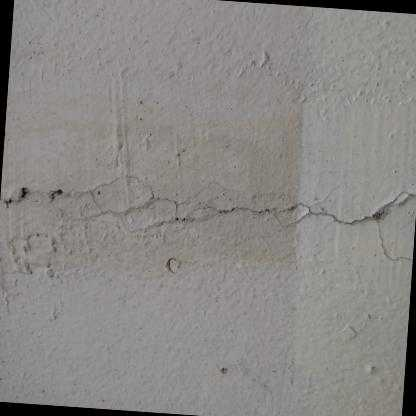crack: (88, 185, 416, 264)
